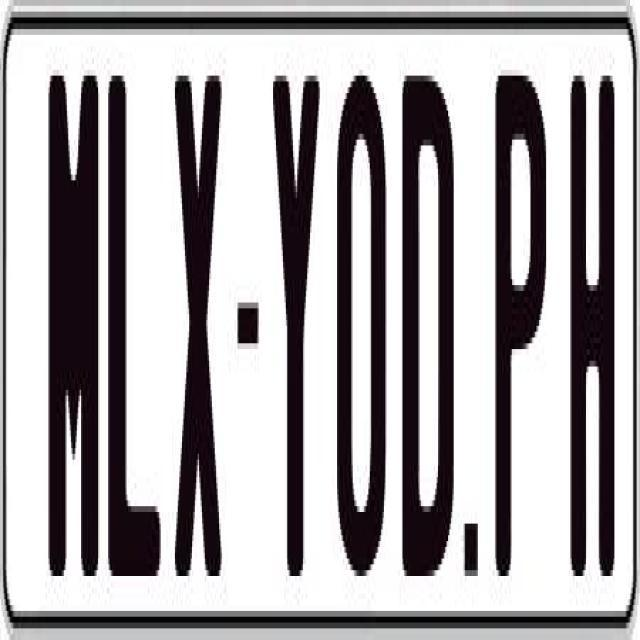0: (336, 70, 384, 576)
D: (401, 70, 452, 588)
H: (567, 58, 616, 582)
L: (104, 58, 161, 582)
M: (49, 75, 100, 606)
P: (492, 75, 549, 588)
X: (174, 64, 228, 570)
Y: (270, 76, 326, 582)
